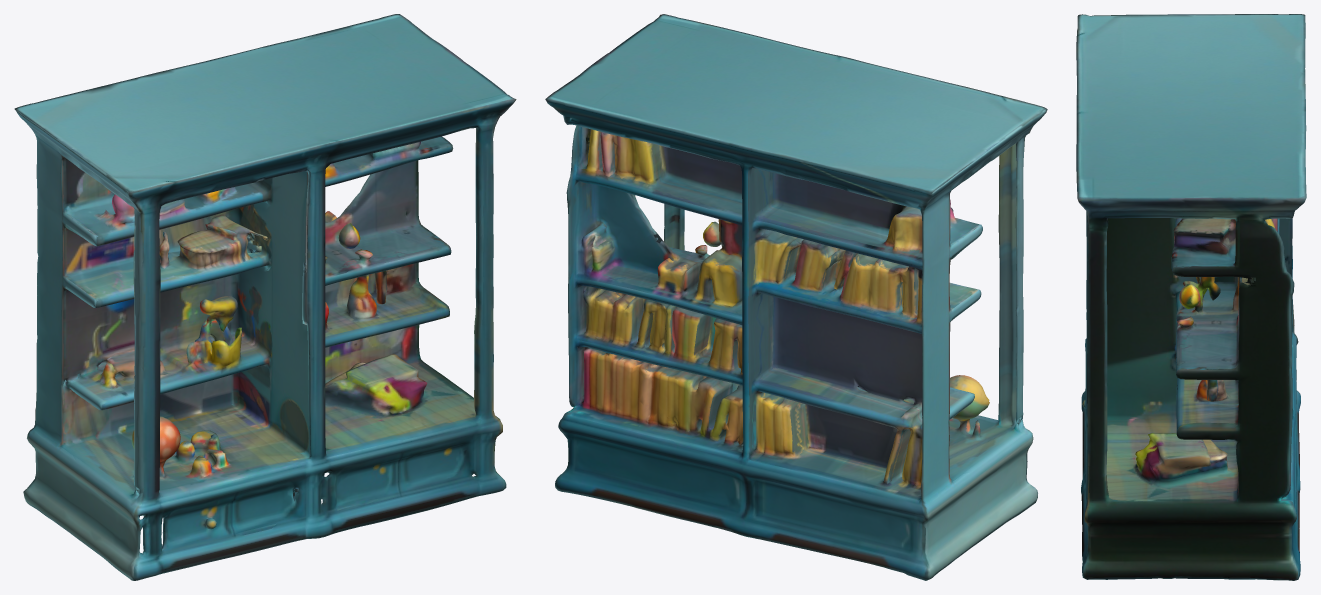
The model's file is Bookshelf_old.fbx.
The picture shows the model from 3 angles, left to right: view 1: azimuth 30°, elevation 25°; view 2: azimuth 150°, elevation 25°; view 3: azimuth 270°, elevation 25°; orthographic projection.
Visible parts, largest first — view 1: Mesh_0; view 2: Mesh_0; view 3: Mesh_0.
Part boxes in pixels (x1,y1,x2,y2): Mesh_0: (14, 14, 516, 580); Mesh_0: (545, 14, 1047, 580); Mesh_0: (1076, 14, 1306, 580).
Bounding box in the file's own units: 201 × 196 × 106.
1 material, 1 textured.
